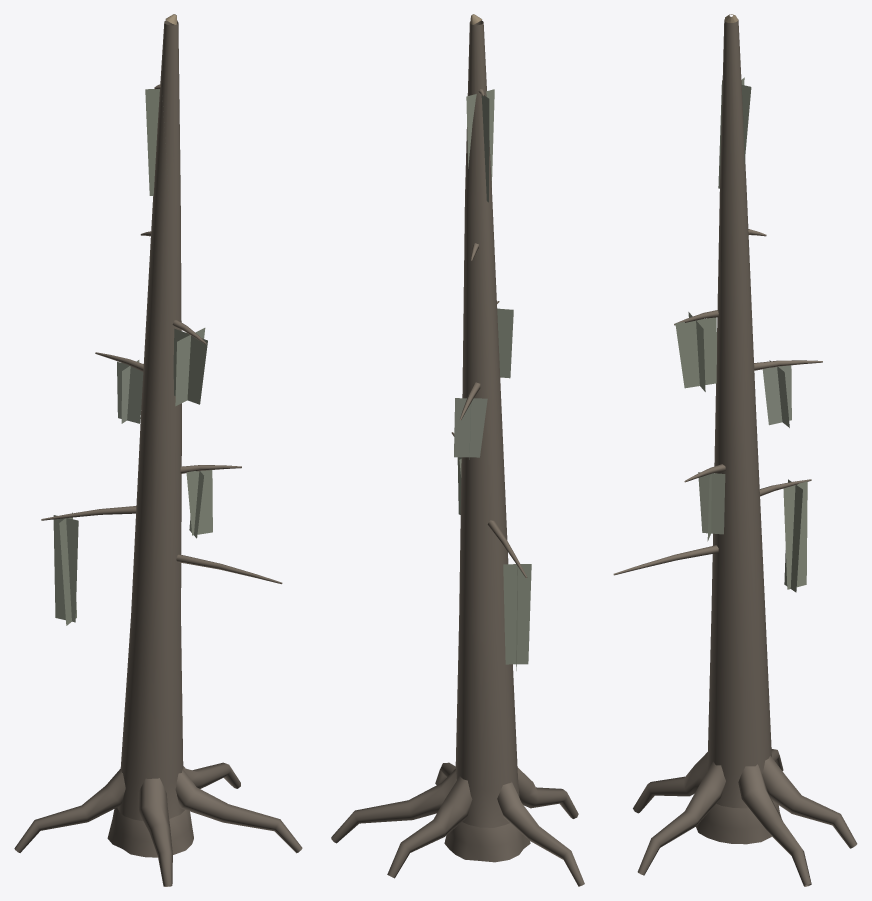
File: snag_moss.glb
The picture shows the model from 3 angles, left to right: view 1: azimuth 30°, elevation 25°; view 2: azimuth 150°, elevation 25°; view 3: azimuth 270°, elevation 25°; orthographic projection.
Parts seen in each view (by area): view 1: snag_moss; view 2: snag_moss; view 3: snag_moss.
Part boxes in pixels (bbox=[...]): snag_moss: bbox=[14, 14, 302, 886]; snag_moss: bbox=[331, 14, 584, 886]; snag_moss: bbox=[613, 14, 857, 886].
Bounding box in the file's own units: 3.04 × 10.03 × 2.69.
